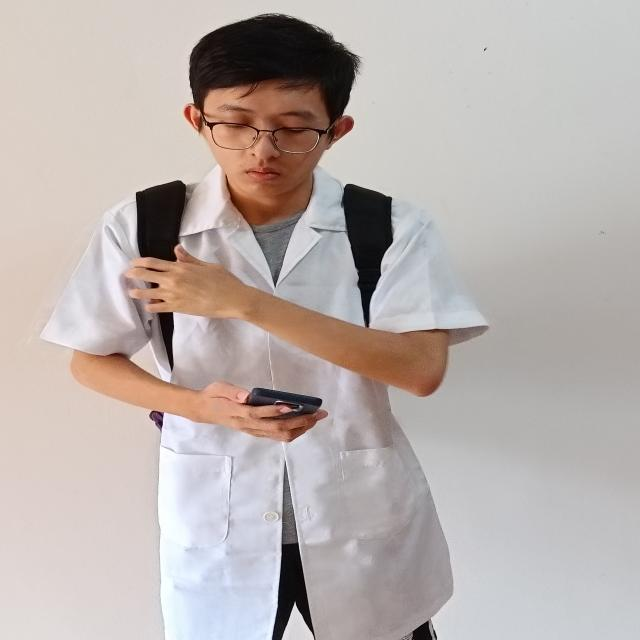person_with_labcoat: (42, 15, 486, 640)
